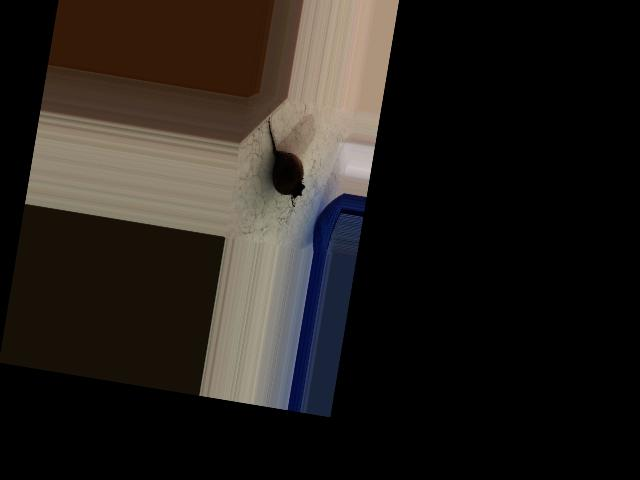beet: (254, 117, 314, 207)
